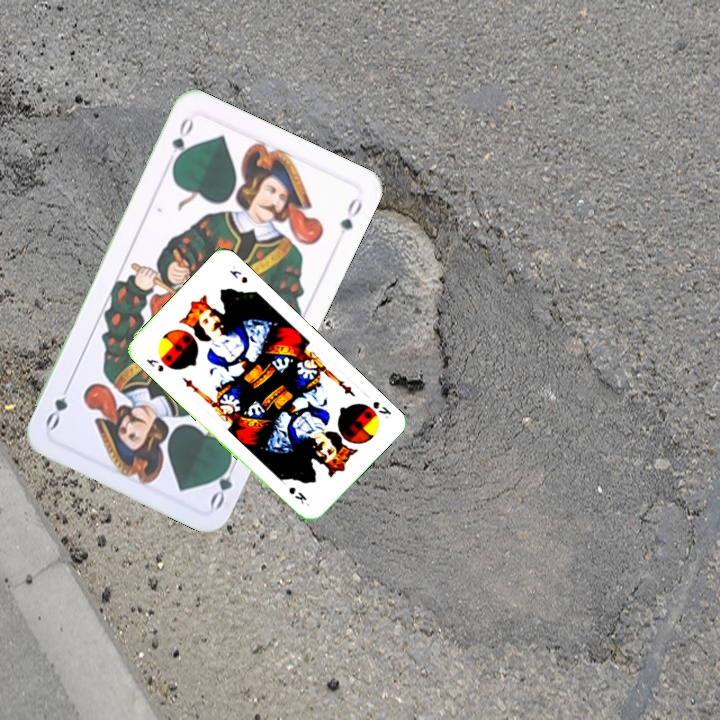GO: (206, 452, 241, 512), (167, 113, 197, 170)
SK: (369, 397, 394, 421), (142, 355, 166, 374)
